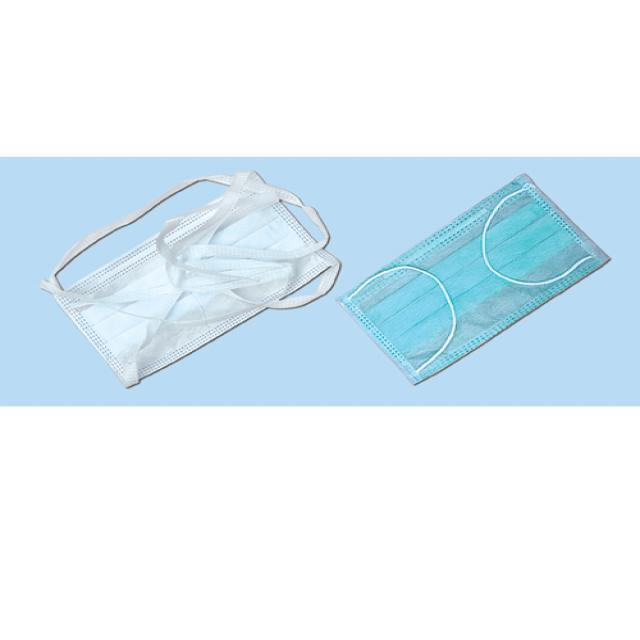non-organic waste: (340, 174, 612, 386), (52, 179, 333, 384)
